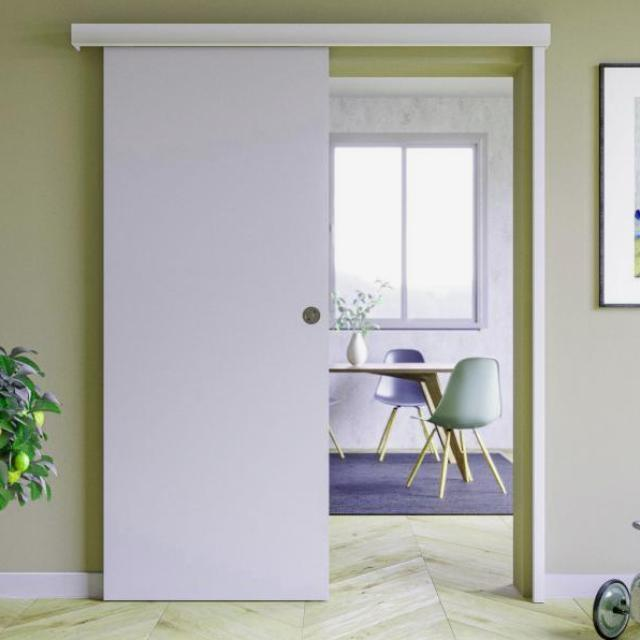door: (101, 45, 331, 601)
